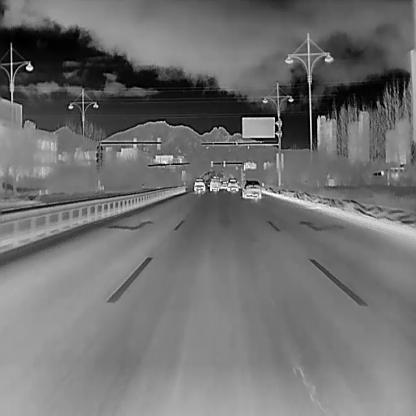car: (242, 179, 261, 199), (193, 177, 205, 193), (228, 177, 239, 192), (209, 177, 219, 192), (221, 180, 228, 190)
